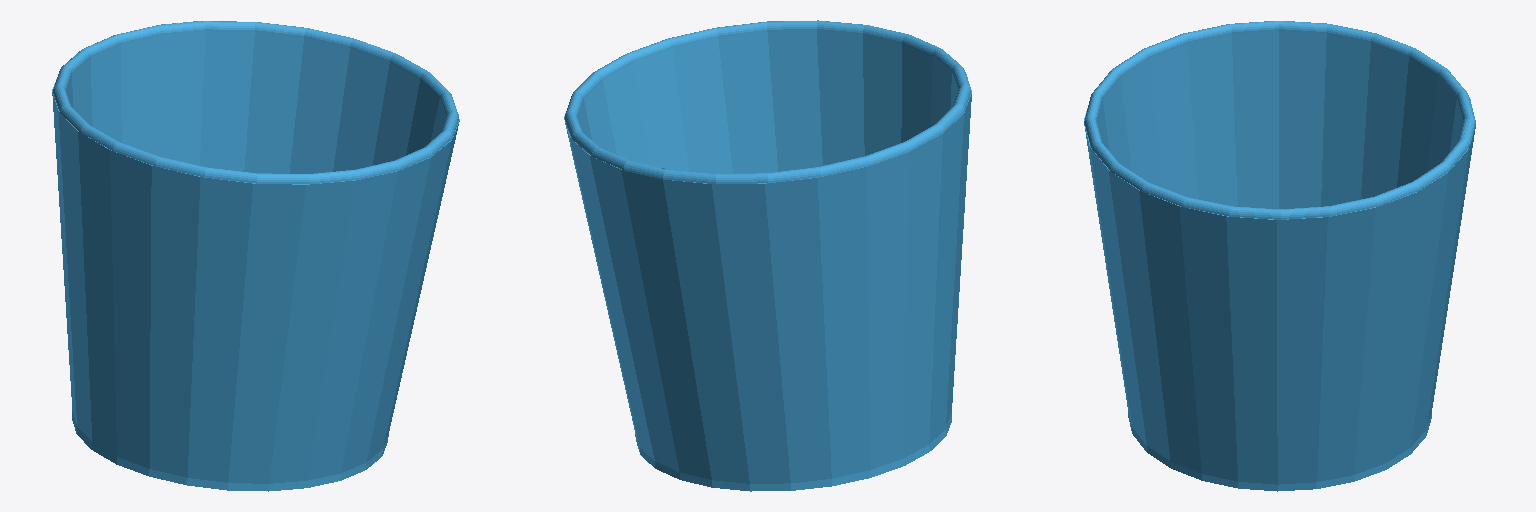
The robot description file, URDF, robot "partnet_af5f4299084775cb4bb0a929135b1b1f":
<?xml version="1.0" ?>
<robot name="partnet_af5f4299084775cb4bb0a929135b1b1f">
	<link name="base"/>
	<link name="link_1">
		<!-- Visual meshes for the bucket -->
		<visual name="base_body-2">
			<origin xyz="0 0 0"/>
			<geometry>
				<mesh filename="textured_objs/original-4.obj"/>
			</geometry>
		</visual>
		<visual name="base_body-2">
			<origin xyz="0 0 0"/>
			<geometry>
				<mesh filename="textured_objs/original-3.obj"/>
			</geometry>
		</visual>
		<visual name="base_body-2">
			<origin xyz="0 0 0"/>
			<geometry>
				<mesh filename="textured_objs/original-2.obj"/>
			</geometry>
		</visual>
		<visual name="base_body-2">
			<origin xyz="0 0 0"/>
			<geometry>
				<mesh filename="textured_objs/original-5.obj"/>
			</geometry>
		</visual>
		<visual name="base_body-2">
			<origin xyz="0 0 0"/>
			<geometry>
				<mesh filename="textured_objs/original-1.obj"/>
			</geometry>
		</visual>

		<!-- Simple box collisions to form a container -->
		<!-- Bottom of bucket -->
		<collision name="bottom">
			<origin xyz="0 -0.4 0"/>
			<geometry>
				<box size="0.8 0.1 0.8"/>
			</geometry>
		</collision>
		<!-- Wall: positive x side -->
		<collision name="wall_px">
			<origin xyz="0.4 0.05 0"/>
			<geometry>
				<box size="0.1 0.8 0.8"/>
			</geometry>
		</collision>
		<!-- Wall: negative x side -->
		<collision name="wall_nx">
			<origin xyz="-0.4 0.05 0"/>
			<geometry>
				<box size="0.1 0.8 0.8"/>
			</geometry>
		</collision>
		<!-- Wall: positive z side -->
		<collision name="wall_pz">
			<origin xyz="0 0.05 0.4"/>
			<geometry>
				<box size="0.8 0.8 0.1"/>
			</geometry>
		</collision>
		<!-- Wall: negative z side -->
		<collision name="wall_nz">
			<origin xyz="0 0.05 -0.4"/>
			<geometry>
				<box size="0.8 0.8 0.1"/>
			</geometry>
		</collision>
	</link>
	<joint name="joint_1" type="fixed">
		<origin rpy="1.570796326794897 0 -1.570796326794897" xyz="0 0 0"/>
		<child link="link_1"/>
		<parent link="base"/>
	</joint>
</robot>

--- Render facts (derived) ---
Views: 3 orthographic renders of the robot side by side, from view 1: azimuth 30°, elevation 25°; view 2: azimuth 150°, elevation 25°; view 3: azimuth 270°, elevation 25°.
Robot: partnet_af5f4299084775cb4bb0a929135b1b1f — 2 links, 1 joints (1 fixed); root link base; default pose: every joint at zero.
Links seen in each view (by area): view 1: link_1; view 2: link_1; view 3: link_1.
Boxes of the visible links, left/top/right/bottom form: link_1: left=52, top=21, right=459, bottom=491; link_1: left=564, top=20, right=971, bottom=491; link_1: left=1084, top=21, right=1475, bottom=491.
Size in the robot's own frame: 1.1 by 1.1 by 1.05 metres.
Meshes: 5 distinct files referenced, 5 mesh visuals loaded (5 OBJ).
